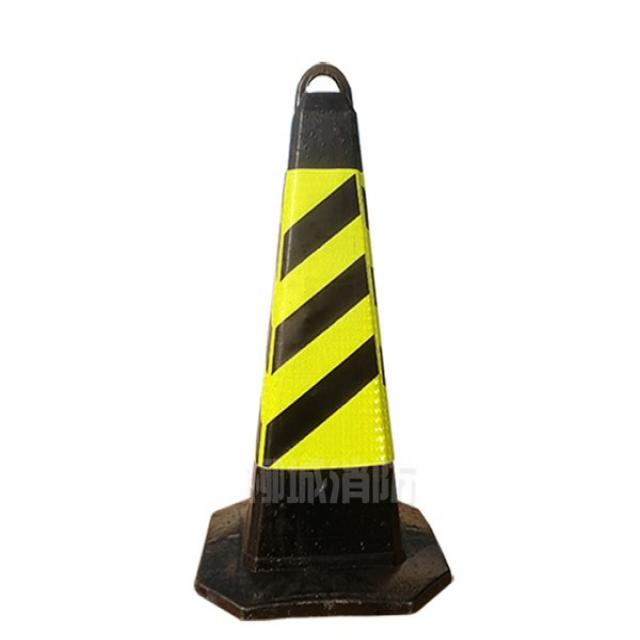reflective_cone: (184, 63, 449, 619)
